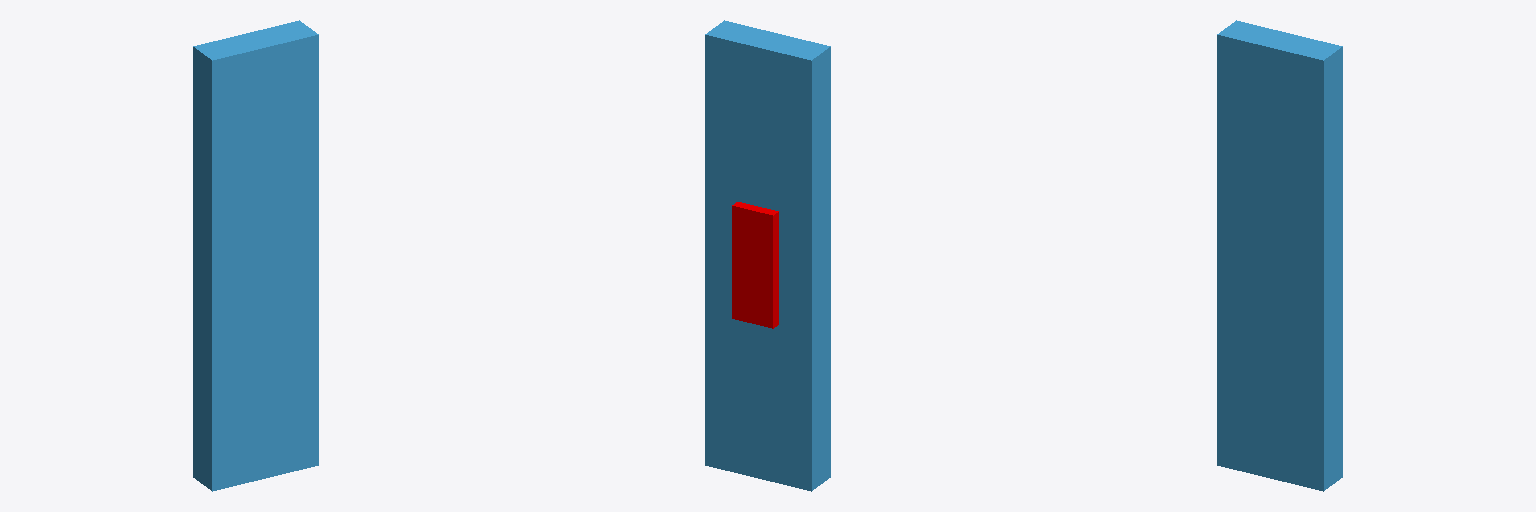
URDF robot description (knife):
<?xml version='1.0' encoding='utf-8'?>
<robot name="knife">
  <link name="link_1">
    <visual name="link_1">
      <origin xyz="0 0.006903 0" rpy="0 0 0" />
      <geometry>
        <box size="0.013193505799991248 0.003116360416311357 0.034536869357283805" /></geometry>
    <material name="red"><color rgba="1 0 0 1" /></material></visual>
    <collision>
      <origin xyz="0 0.006903 0" rpy="0 0 0" />
      <geometry>
        <box size="0.013193505799991248 0.003116360416311357 0.034536869357283805" /></geometry>
    </collision>
    </link>
  <joint name="joint_1" type="prismatic">
    <origin xyz="0 0 0" />
    <axis xyz="0 0 1" />
    <child link="link_1" />
    <parent link="link_0" />
    <limit lower="-0.021566" upper="0.028434" effort="100.0" velocity="1.0" />
  </joint>
  <link name="link_0">
    <visual name="link_0">
      <origin xyz="0 0 0" />
      <geometry>
        <box size="0.03399629861347297 0.010689962249194579 0.13151622795021833" /></geometry>
    </visual>
    <collision>
      <origin xyz="0 0 0" />
      <geometry>
        <box size="0.03399629861347297 0.010689962249194579 0.13151622795021833" /></geometry>
    </collision>
    </link>
</robot>

--- What the picture shows (computed from the rendered views, not written in the file) ---
The picture shows the robot from 3 angles, left to right: view 1: azimuth 30°, elevation 25°; view 2: azimuth 150°, elevation 25°; view 3: azimuth 330°, elevation 25°; orthographic projection.
Robot: knife — 2 links, 1 joints (1 prismatic); root link link_0; default pose: every joint at zero.
Links seen in each view (by area): view 1: link_0; view 2: link_0, link_1; view 3: link_0.
Link boxes in pixels (<box>): link_0: <box>193,20,318,491</box>; link_0: <box>705,20,830,491</box>; link_1: <box>732,202,778,328</box>; link_0: <box>1217,20,1342,491</box>.
Size in the robot's own frame: 0.034 by 0.0138 by 0.1315 metres.
Geometry: primitives only (box / cylinder / sphere), no mesh files.
